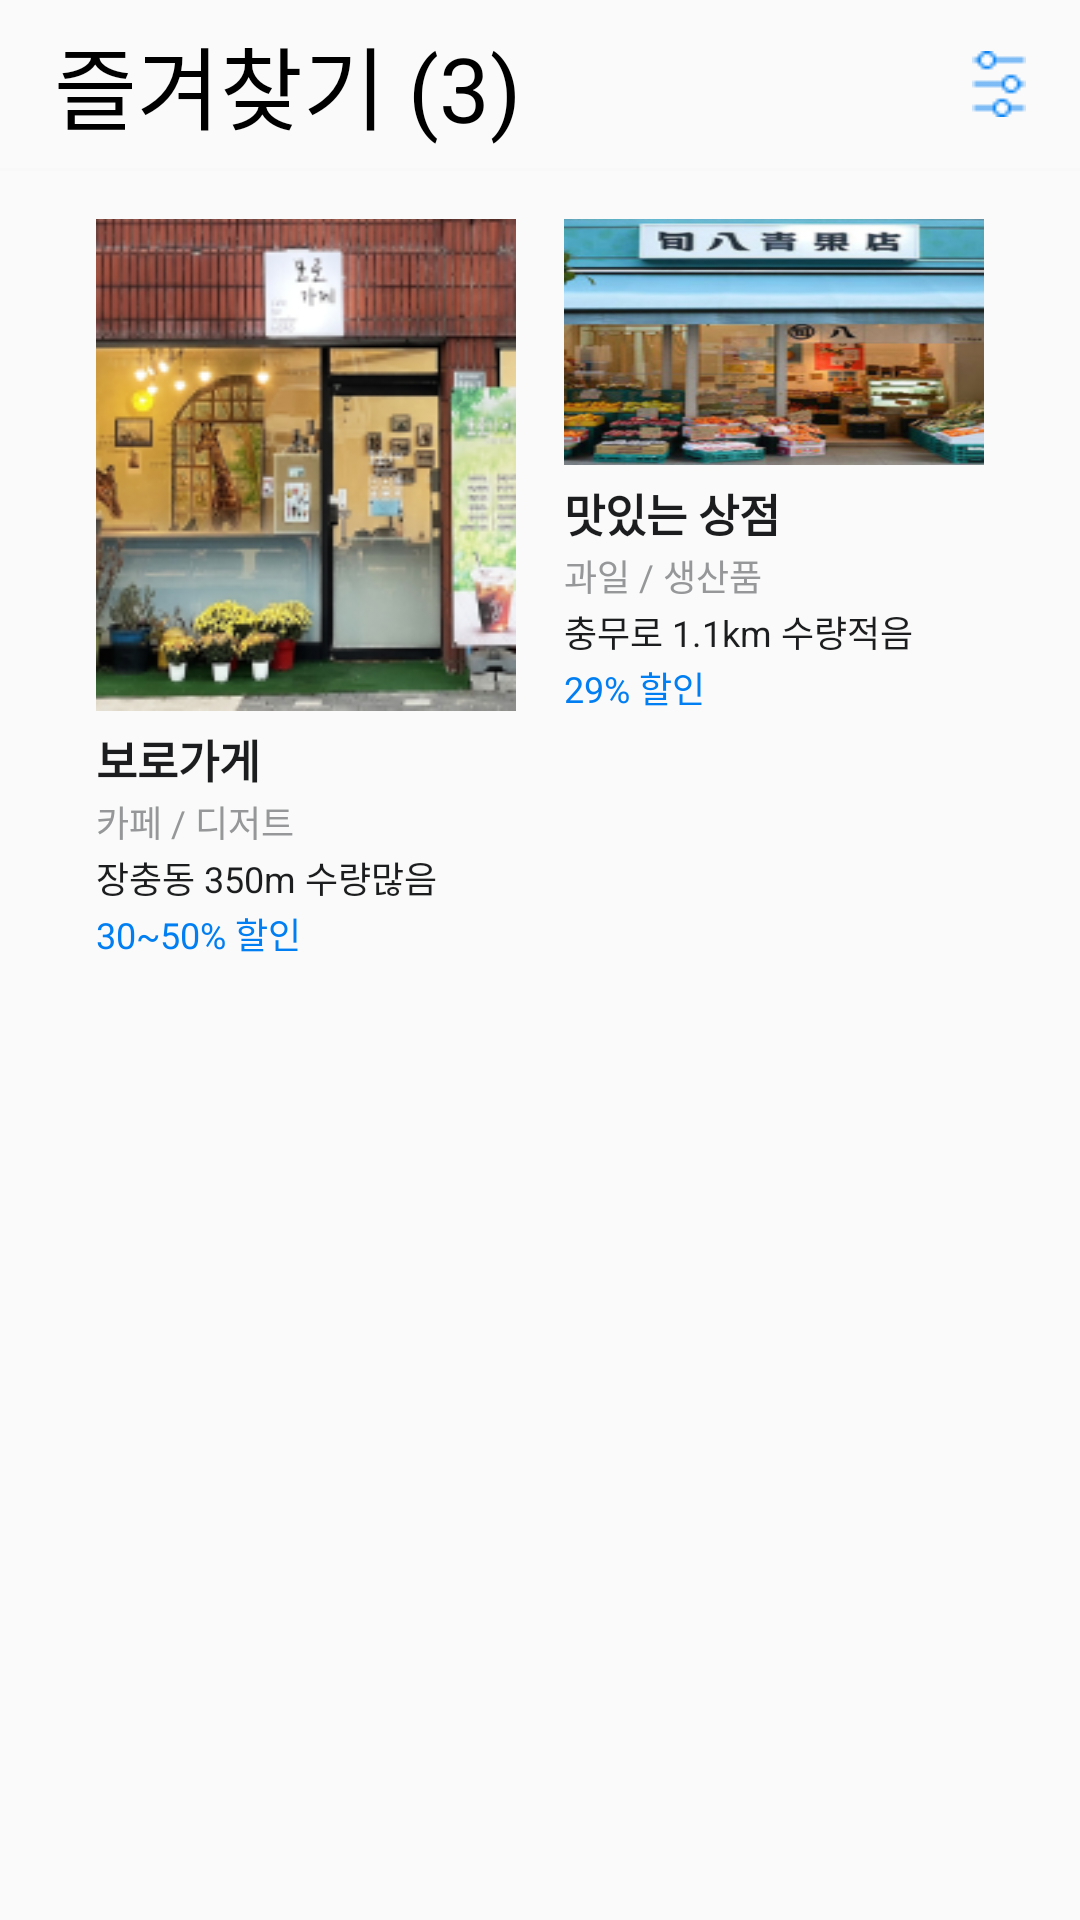

Named icons in this screenshot (1080px×1920px) and their centers, point (x, y):
filter: point (999, 84)
